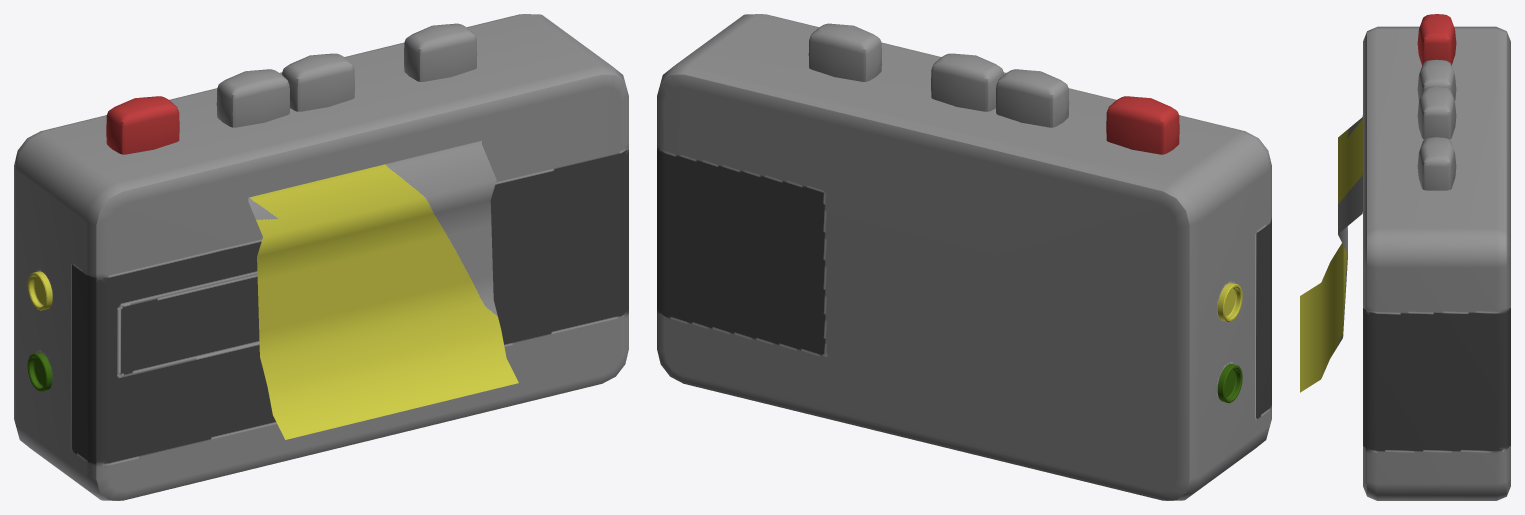
File: recorder_low 4.fbx
The picture shows the model from 3 angles, left to right: view 1: azimuth 30°, elevation 25°; view 2: azimuth 150°, elevation 25°; view 3: azimuth 270°, elevation 25°; orthographic projection. The views are drawn at different scales.
Visible parts, largest first — view 1: pCylinder73, pPlane4, pCube437, pCube441, pCube443, pCube442; view 2: pCylinder73, pCube437, pCube441, pCube443, pCube442; view 3: pCylinder73, pPlane4, pCube443, pCube442, pCube437, pCube441.
Boxes of the visible parts, box(x1,y1,x2,y2) form: pCylinder73: box(14, 14, 628, 500); pPlane4: box(248, 140, 518, 439); pCube437: box(106, 96, 179, 154); pCube441: box(216, 69, 289, 127); pCube443: box(404, 23, 477, 81); pCube442: box(282, 53, 354, 111); pCylinder73: box(657, 14, 1271, 500); pCube437: box(1106, 96, 1179, 154); pCube441: box(996, 69, 1069, 127); pCube443: box(808, 23, 881, 81); pCube442: box(931, 53, 1003, 111); pCylinder73: box(1363, 26, 1510, 500); pPlane4: box(1300, 115, 1362, 392); pCube443: box(1417, 137, 1456, 190); pCube442: box(1417, 86, 1456, 139); pCube437: box(1417, 14, 1456, 65); pCube441: box(1417, 59, 1456, 100).
Bounding box in the file's own units: 0.3524 × 0.2206 × 0.1387.
